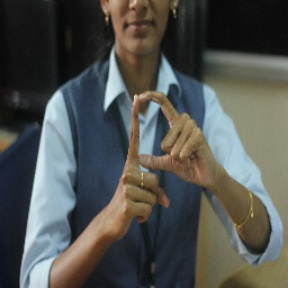D: (118, 84, 200, 192)
